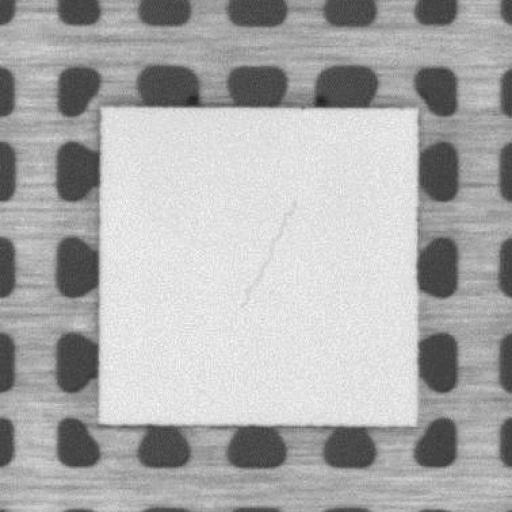DIE_CRACK: (244, 199, 298, 301)
